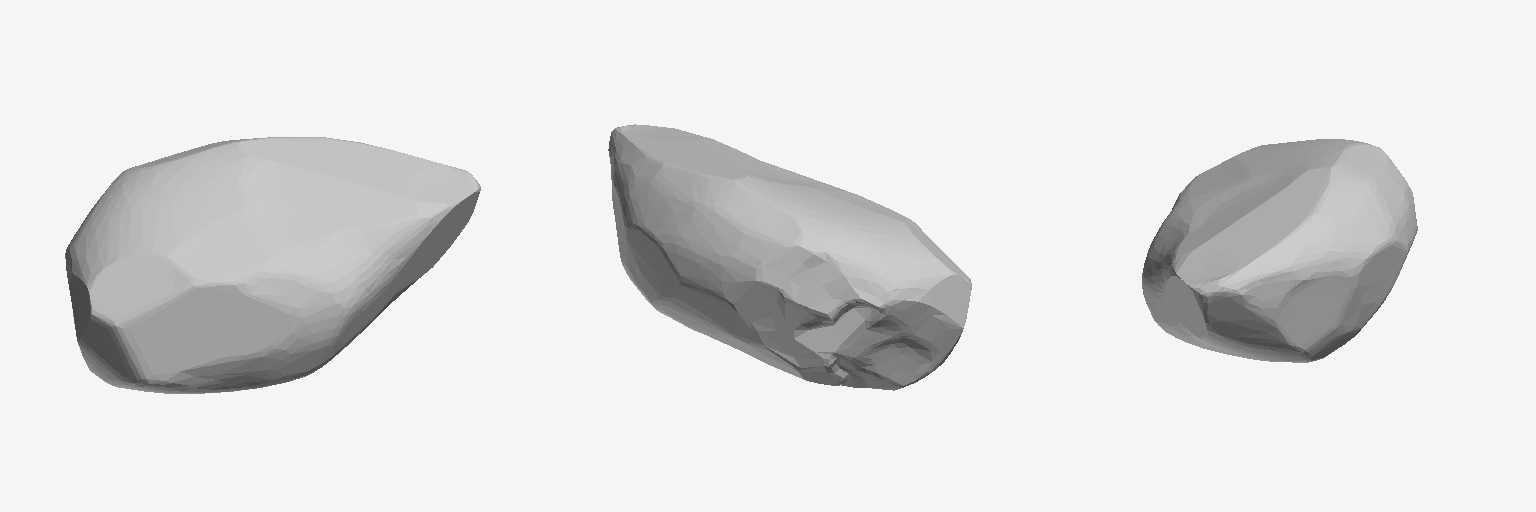
The model's file is Rock_A_LP.obj.
The picture shows the model from 3 angles: view 1: azimuth 30°, elevation 25°; view 2: azimuth 150°, elevation 25°; view 3: azimuth 270°, elevation 25°; orthographic projection.
Parts seen in each view (by area): view 1: Rock_A_LP:Group64246; view 2: Rock_A_LP:Group64246; view 3: Rock_A_LP:Group64246.
Boxes of the visible parts, x1,y1,x2,y2 form: Rock_A_LP:Group64246: [65, 137, 480, 393]; Rock_A_LP:Group64246: [608, 124, 971, 390]; Rock_A_LP:Group64246: [1142, 139, 1417, 362].
Size of the model in its own units: 3.6 by 1.71 by 2.3.